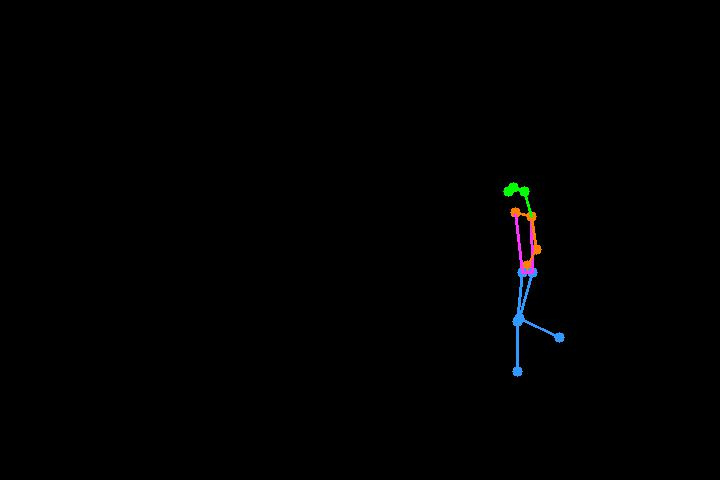normal: (490, 165, 582, 391)
